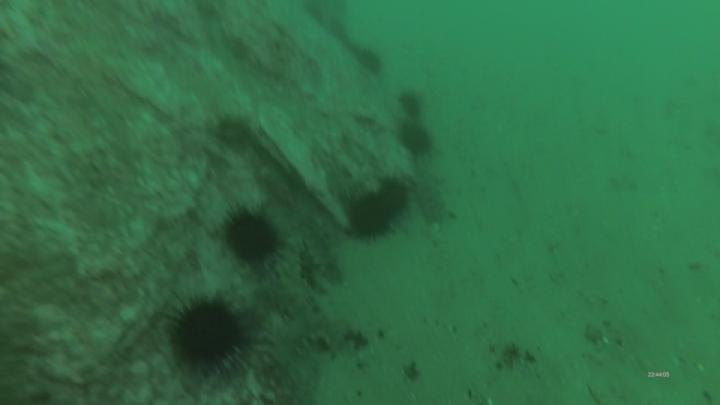echinus: (164, 289, 251, 377), (217, 203, 293, 278), (339, 186, 398, 242), (375, 173, 412, 219), (398, 116, 436, 156), (352, 42, 386, 79), (397, 88, 430, 123)
holothurian: (293, 212, 348, 291), (271, 235, 312, 324)
